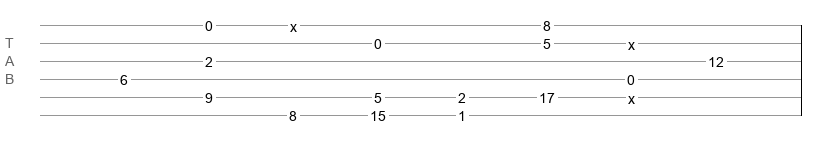0: (205, 18, 213, 28), (374, 36, 382, 46), (627, 72, 635, 82)
1: (458, 108, 466, 118)
12: (708, 54, 724, 64)
15: (370, 108, 386, 118)
17: (539, 90, 555, 100)
2: (205, 54, 213, 64), (458, 90, 466, 100)
5: (374, 90, 382, 100), (543, 36, 551, 46)
6: (120, 72, 128, 82)
8: (289, 108, 297, 118), (543, 18, 551, 28)
9: (205, 90, 213, 100)
x: (290, 19, 297, 27), (628, 91, 635, 99), (628, 37, 635, 45)
